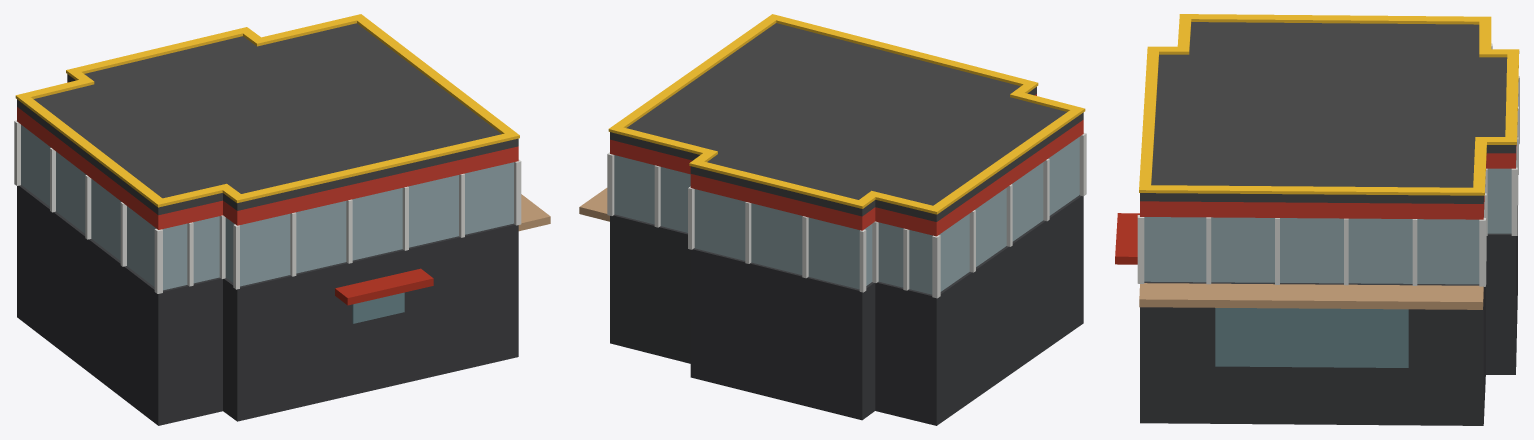
File: mcdonalds-chongde2.glb
The picture shows the model from 3 angles, left to right: view 1: azimuth 30°, elevation 25°; view 2: azimuth 150°, elevation 25°; view 3: azimuth 270°, elevation 25°; orthographic projection. The views are drawn at different scales.
Parts seen in each view (by area): view 1: mcdonalds-chongde2; view 2: mcdonalds-chongde2; view 3: mcdonalds-chongde2.
Part boxes in pixels (<box>): mcdonalds-chongde2: <box>14,14,550,425</box>; mcdonalds-chongde2: <box>579,14,1086,425</box>; mcdonalds-chongde2: <box>1115,14,1519,425</box>.
Size of the model in its own units: 21.51 by 12 by 18.84.
